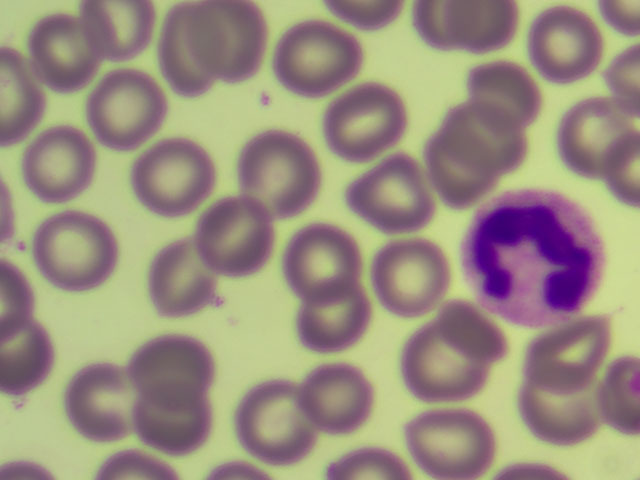RBC: (415, 1, 523, 57), (27, 13, 99, 90), (88, 70, 160, 147), (25, 125, 97, 202), (35, 212, 107, 289), (59, 362, 131, 439), (140, 322, 212, 399), (135, 388, 207, 465), (242, 387, 314, 464), (306, 360, 378, 437), (295, 287, 367, 364), (286, 225, 358, 302), (193, 196, 265, 273), (240, 134, 312, 211), (140, 138, 212, 215), (138, 244, 210, 321), (152, 9, 224, 86), (288, 19, 360, 96), (331, 79, 403, 156), (355, 156, 427, 233), (370, 246, 442, 323), (405, 319, 477, 396), (412, 403, 484, 480), (521, 372, 593, 449), (538, 312, 610, 389), (555, 101, 627, 178), (531, 3, 603, 80), (478, 48, 550, 125), (435, 112, 507, 189), (78, 1, 150, 77), (207, 1, 279, 77), (1, 311, 72, 388), (1, 44, 47, 155), (311, 443, 412, 480)
WBC: (462, 191, 600, 331)
